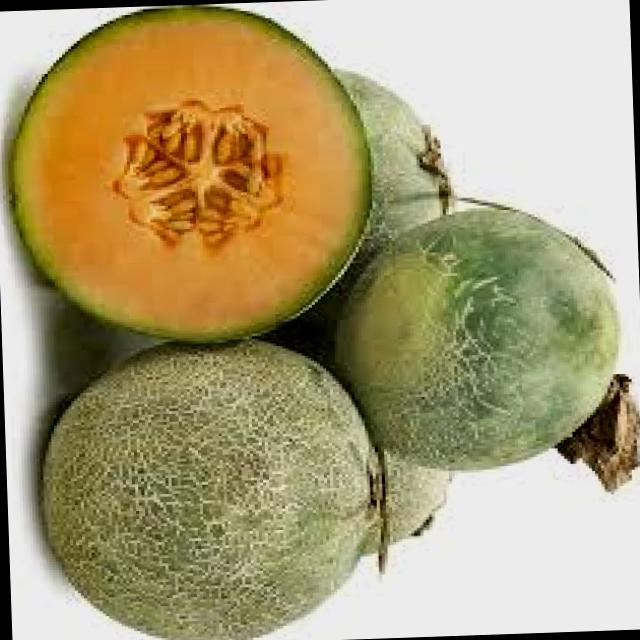cantaloupe: (2, 0, 380, 352), (32, 339, 396, 640)
